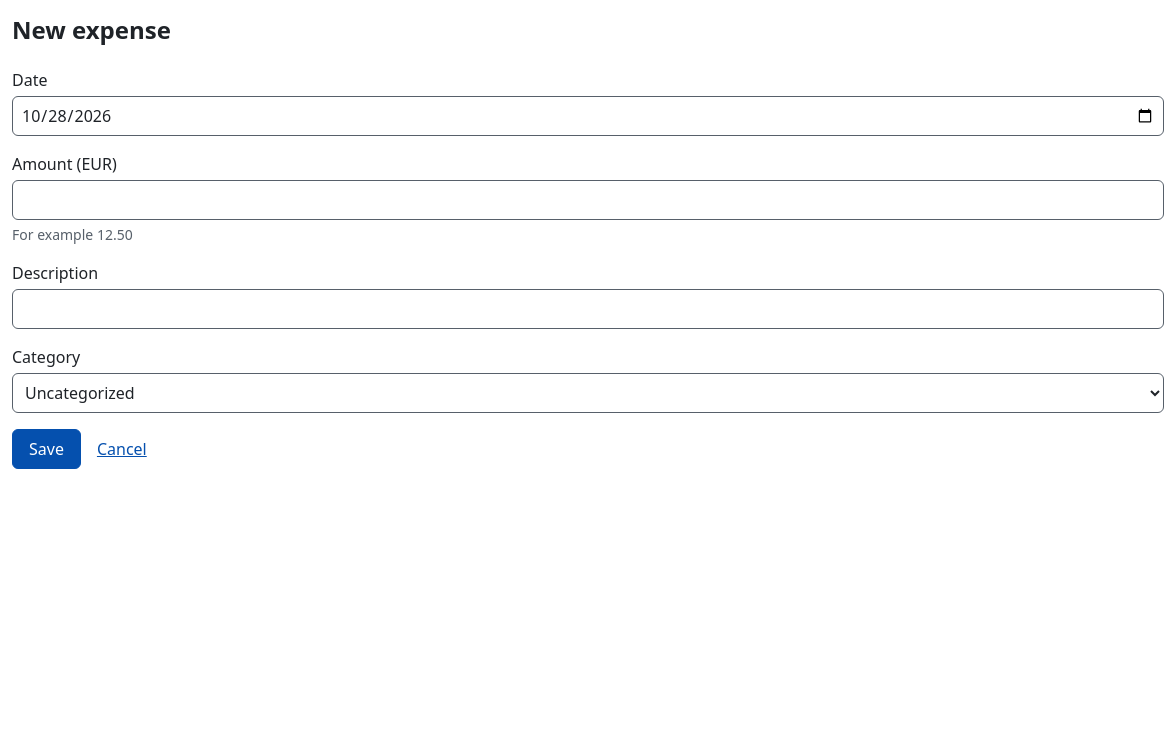
Scenario: ExpenseFormView: new › shows the "may have been saved" hint after a timeout and keeps the data
Type "5" into the field with id "expense-amount" at (588, 200), box [12,180,1164,220]
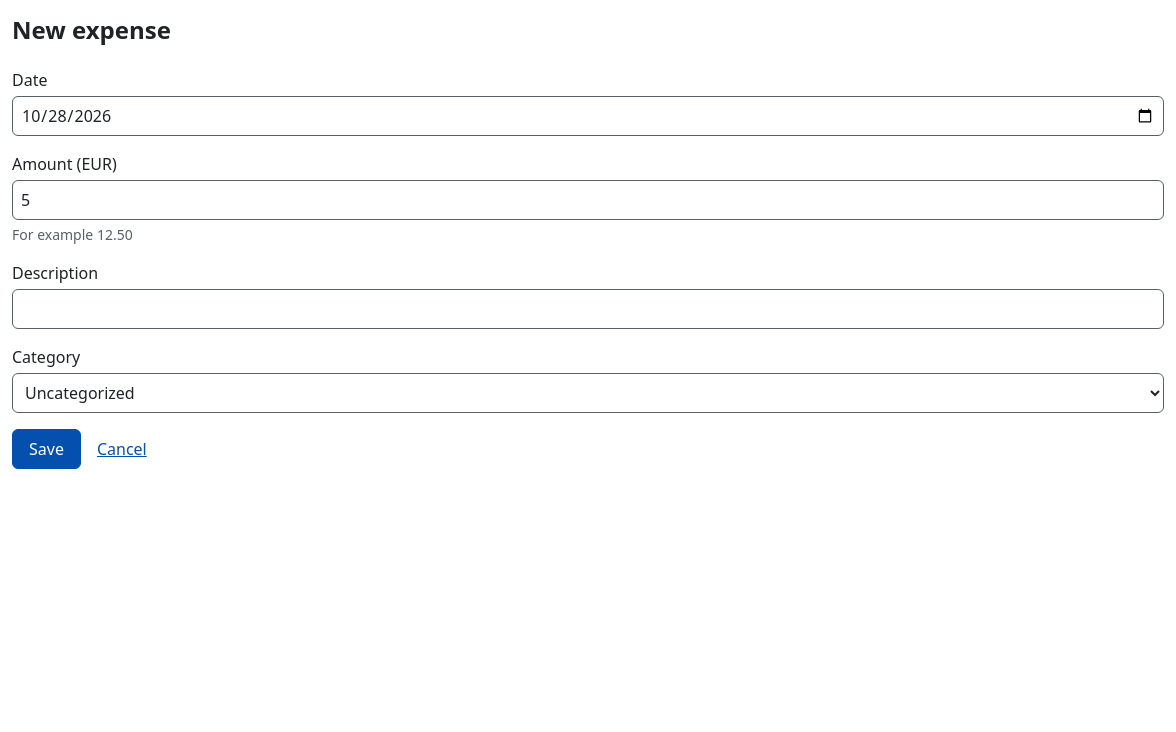
Type "Bus" into the field with id "expense-description" at (588, 309), box [12,289,1164,329]
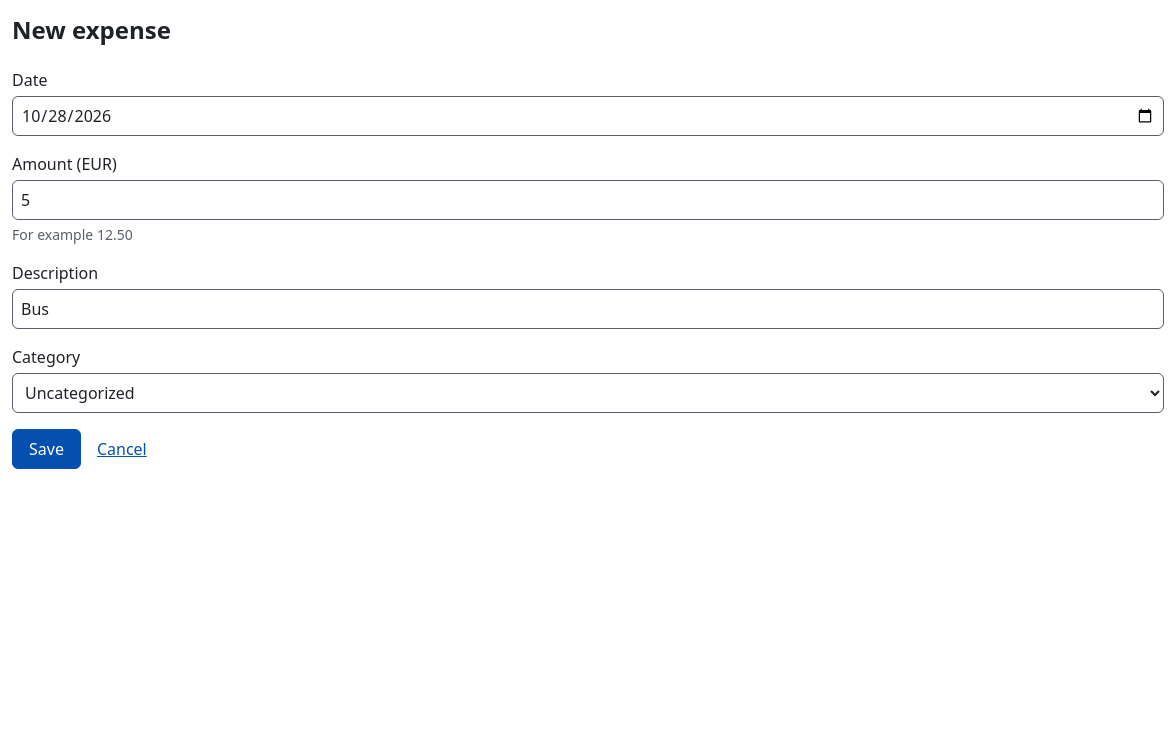
Submit the form, box [12,68,1164,469]
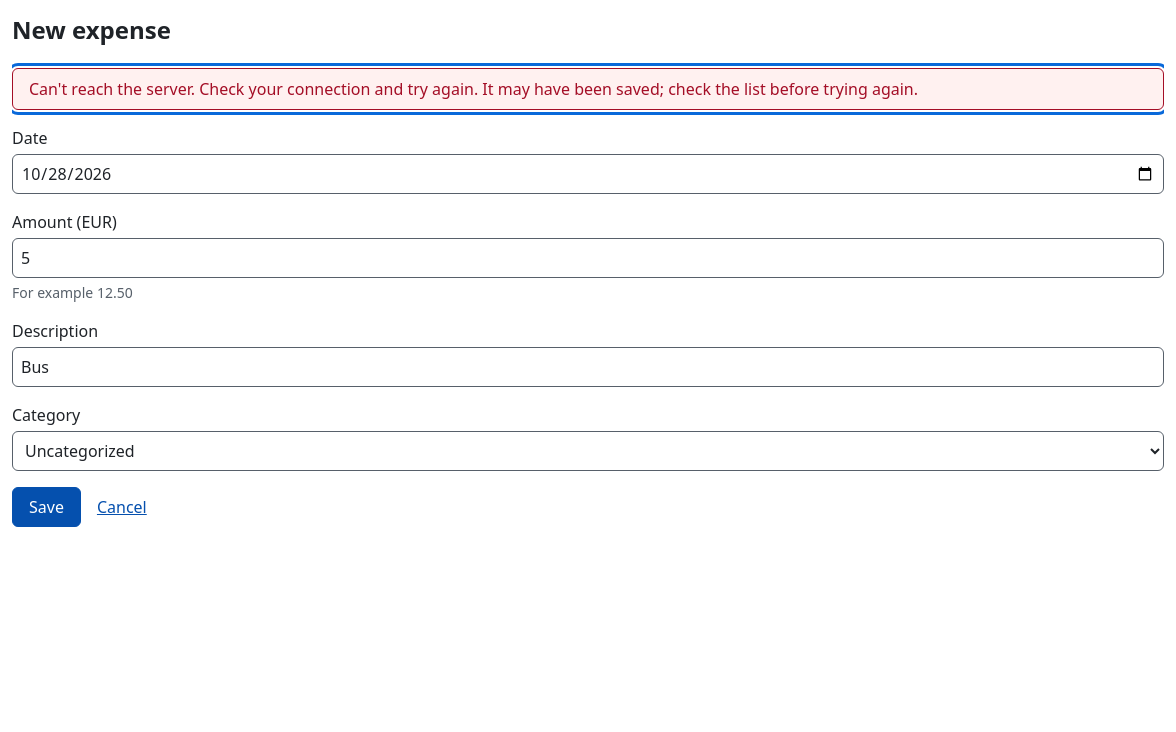
Expected: the message shows "It may have been saved", [29,78,918,100]
